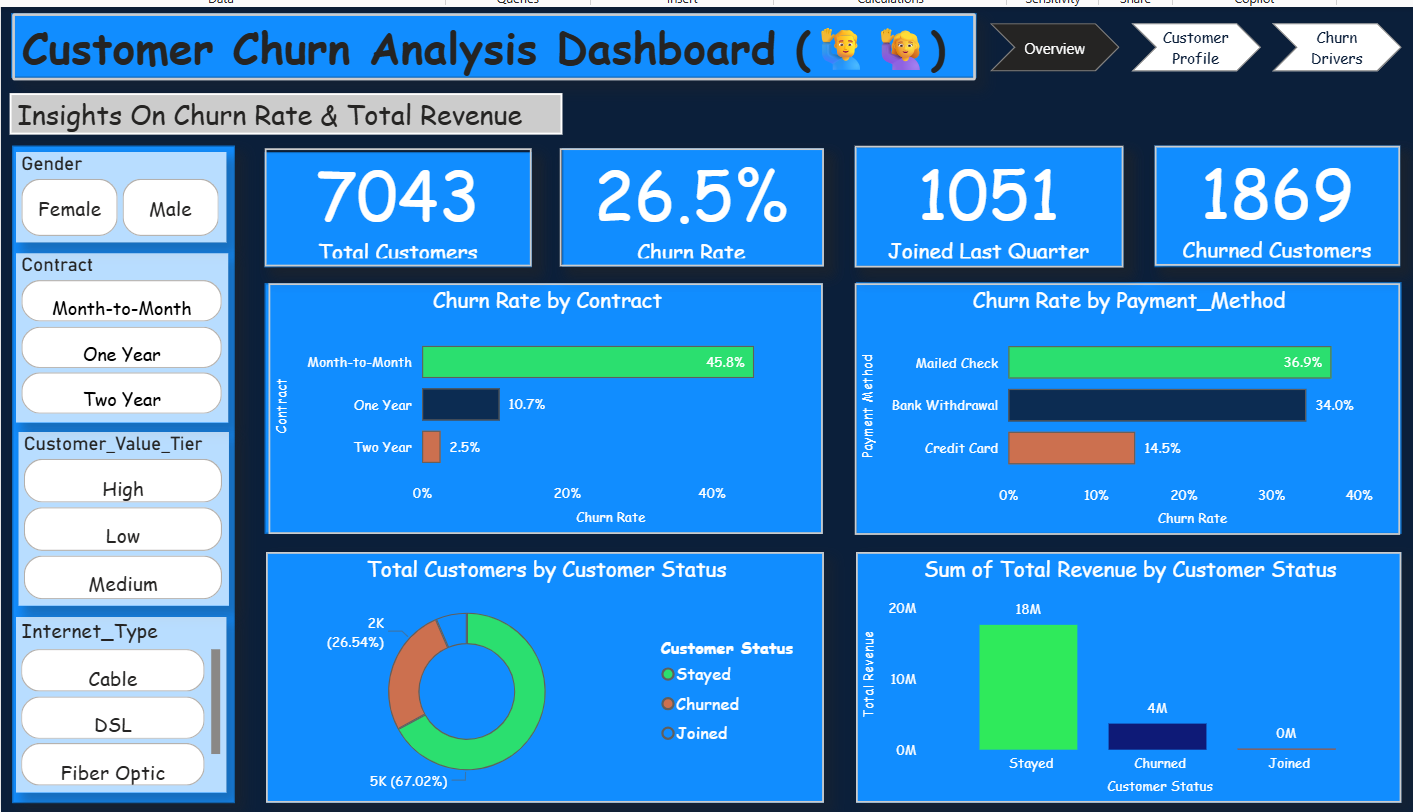

What the dashboard file says about the page in this screenshot:
{"tool":"powerbi","page":{"name":"Overview","canvas":[1280,720],"ordinal":0},"visuals":[{"type":"shape","box":[9.6,123.5,199,587.3],"z":0},{"type":"shape","box":[8.4,5.6,862.4,57.5],"z":1000},{"type":"shape","box":[236.5,487,498.1,224],"z":2000},{"type":"shape","box":[764.3,245.6,487.1,225],"z":3000},{"type":"shape","box":[236,247,498.1,223.7],"z":4000},{"type":"shape","box":[1030.5,123.5,219.6,108.4],"z":5000},{"type":"shape","box":[763,124.9,240.1,107],"z":6000},{"type":"shape","box":[500.9,126.2,233.3,105.7],"z":7000},{"type":"shape","box":[236,129,238.8,102.9],"z":8000},{"type":"card","fields":{"Values":["churn.Total Customers"]},"box":[236,126.2,238.8,105.7],"z":9000},{"type":"card","fields":{"Values":["churn.Churn Rate"]},"box":[499.5,126.2,236,105.7],"z":10000},{"type":"card","fields":{"Values":["churn.Churned Customers"]},"box":[1030.5,123.5,219.6,107],"z":11000},{"type":"card","fields":{"Values":["churn.Joined Last Quarter"]},"box":[763,123.5,240.1,108.4],"z":12000},{"type":"advancedSlicerVisual","fields":{"Values":["churn.Gender"]},"box":[13.7,129,188,81],"z":13000},{"type":"advancedSlicerVisual","fields":{"Values":["churn.Contract"]},"box":[13.7,219.6,189.4,150.9],"z":14000},{"type":"advancedSlicerVisual","fields":{"Values":["churn.Customer_Value_Tier"]},"box":[15.1,380.1,188,155.1],"z":15000},{"type":"advancedSlicerVisual","fields":{"Values":["churn.Internet_Type"]},"box":[13.7,544.8,188,156.4],"z":16000},{"type":"clusteredBarChart","fields":{"Category":["churn.Contract"],"Y":["churn.Churn Rate"]},"box":[238.8,247,495.4,223.7],"z":17000},{"type":"barChart","fields":{"Category":["churn.Payment_Method"],"Y":["churn.Churn Rate"]},"box":[763,247,487.1,225],"z":18000},{"type":"donutChart","title":"Total Customers by Customer Status","fields":{"Category":["churn.Customer_Status"],"Y":["churn.Total Customers"]},"box":[236.5,487,498.1,224],"z":19000},{"type":"shape","box":[764,487,487,224],"z":20000},{"type":"columnChart","title":"Sum of Total Revenue by Customer Status","fields":{"Y":["Sum(churn.Total_Revenue)"],"Category":["churn.Customer_Status"]},"box":[763.8,487,487,224],"z":21000},{"type":"textbox","title":"Customer Churn Analysis Dashboard (🙋♂️🙋♀️)","box":[9.8,5.6,861,60.3],"z":22000},{"type":"textbox","title":"Insights On Churn Rate & Total Revenue","box":[7.8,77,493.6,36.8],"z":23000},{"type":"pageNavigator","box":[883.4,14,368.8,43.5],"z":24000}]}

Visuals, with their boxes in screenshot pixels (x1, y1, x2, y2):
shape: x1=3, y1=139, x2=228, y2=802
shape: x1=2, y1=6, x2=975, y2=71
shape: x1=260, y1=550, x2=822, y2=802
shape: x1=855, y1=277, x2=1405, y2=531
shape: x1=259, y1=279, x2=821, y2=531
shape: x1=1156, y1=139, x2=1404, y2=262
shape: x1=854, y1=141, x2=1125, y2=262
shape: x1=558, y1=142, x2=821, y2=262
shape: x1=259, y1=146, x2=529, y2=262
card - churn.Total Customers: x1=259, y1=142, x2=529, y2=262
card - churn.Churn Rate: x1=556, y1=142, x2=823, y2=262
card - churn.Churned Customers: x1=1156, y1=139, x2=1404, y2=260
card - churn.Joined Last Quarter: x1=854, y1=139, x2=1125, y2=262
advancedSlicerVisual - churn.Gender: x1=8, y1=146, x2=220, y2=237
advancedSlicerVisual - churn.Contract: x1=8, y1=248, x2=222, y2=418
advancedSlicerVisual - churn.Customer_Value_Tier: x1=10, y1=429, x2=222, y2=604
advancedSlicerVisual - churn.Internet_Type: x1=8, y1=615, x2=220, y2=791
clusteredBarChart - churn.Contract x churn.Churn Rate: x1=262, y1=279, x2=821, y2=531
barChart - churn.Payment_Method x churn.Churn Rate: x1=854, y1=279, x2=1404, y2=533
"Total Customers by Customer Status" donutChart: x1=260, y1=550, x2=822, y2=802
shape: x1=855, y1=550, x2=1405, y2=802
"Sum of Total Revenue by Customer Status" columnChart: x1=855, y1=550, x2=1404, y2=802
"Customer Churn Analysis Dashboard (🙋♂️🙋♀️)" textbox: x1=4, y1=6, x2=975, y2=74
"Insights On Churn Rate & Total Revenue" textbox: x1=1, y1=87, x2=559, y2=128
pageNavigator: x1=990, y1=16, x2=1406, y2=65
